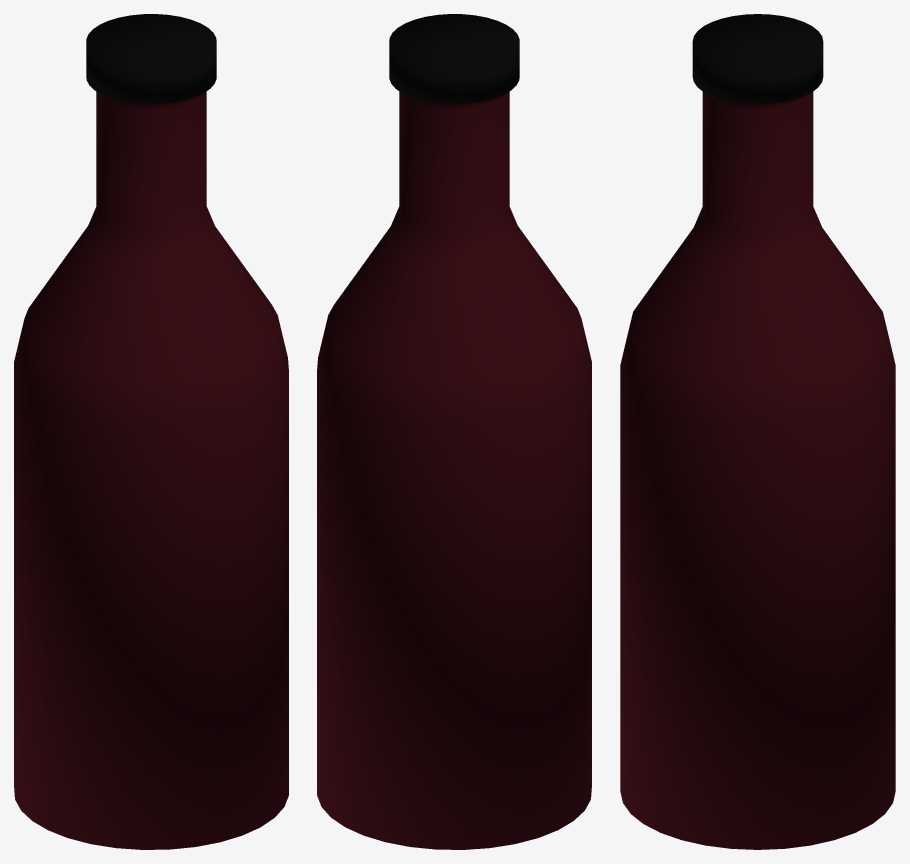
File: bottle.fbx
3 renders of one model, left to right at view 1: azimuth 30°, elevation 25°; view 2: azimuth 150°, elevation 25°; view 3: azimuth 270°, elevation 25°, orthographic.
Visible parts, largest first — view 1: Cylinder; view 2: Cylinder; view 3: Cylinder.
Boxes of the visible parts, bbox=[...] form: Cylinder: bbox=[14, 14, 288, 849]; Cylinder: bbox=[317, 14, 591, 849]; Cylinder: bbox=[620, 14, 895, 849].
Bounding box in the file's own units: 200 × 601 × 200.
